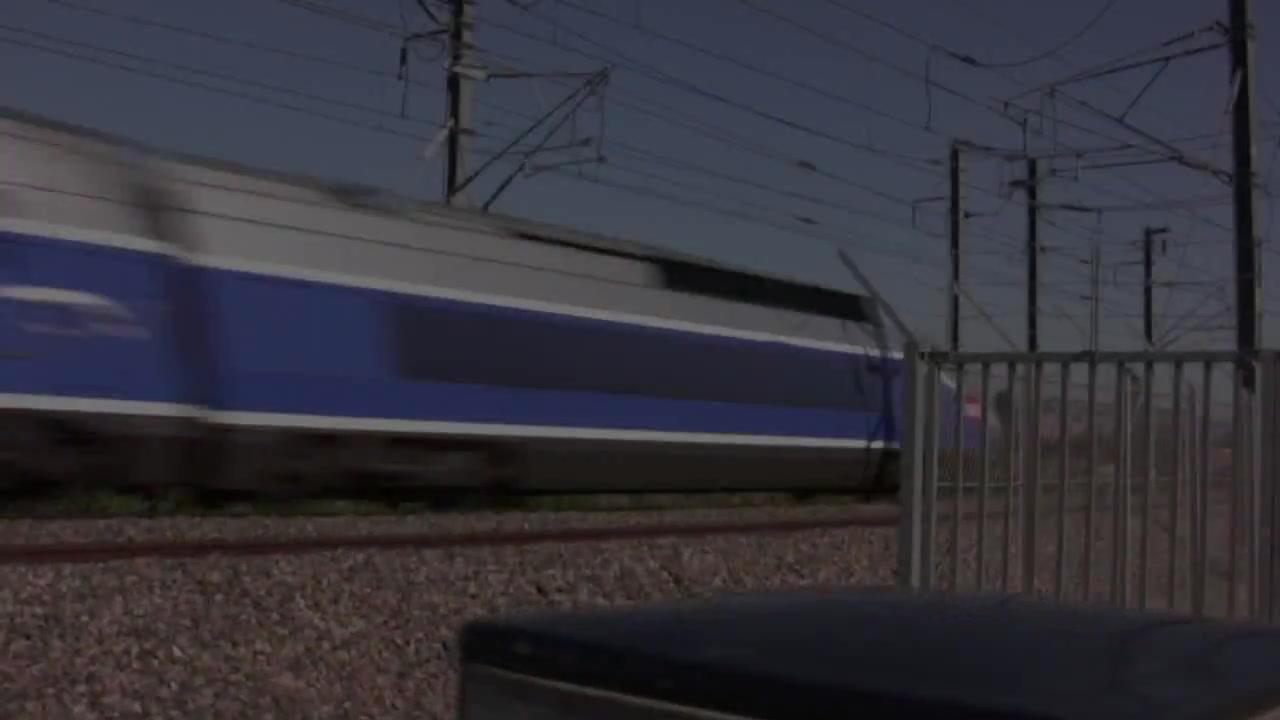train: (2, 99, 1003, 502)
